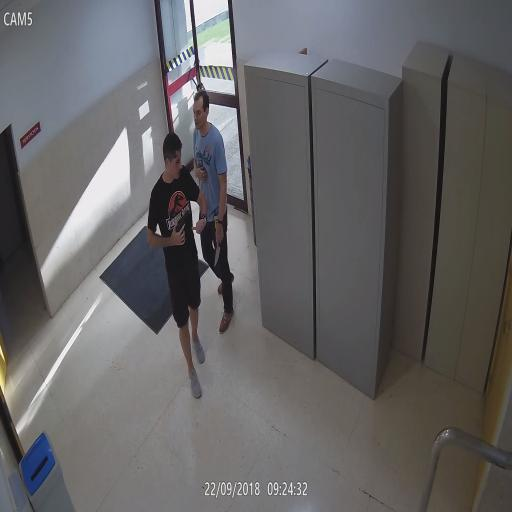Handgun: (174, 208, 192, 248)
